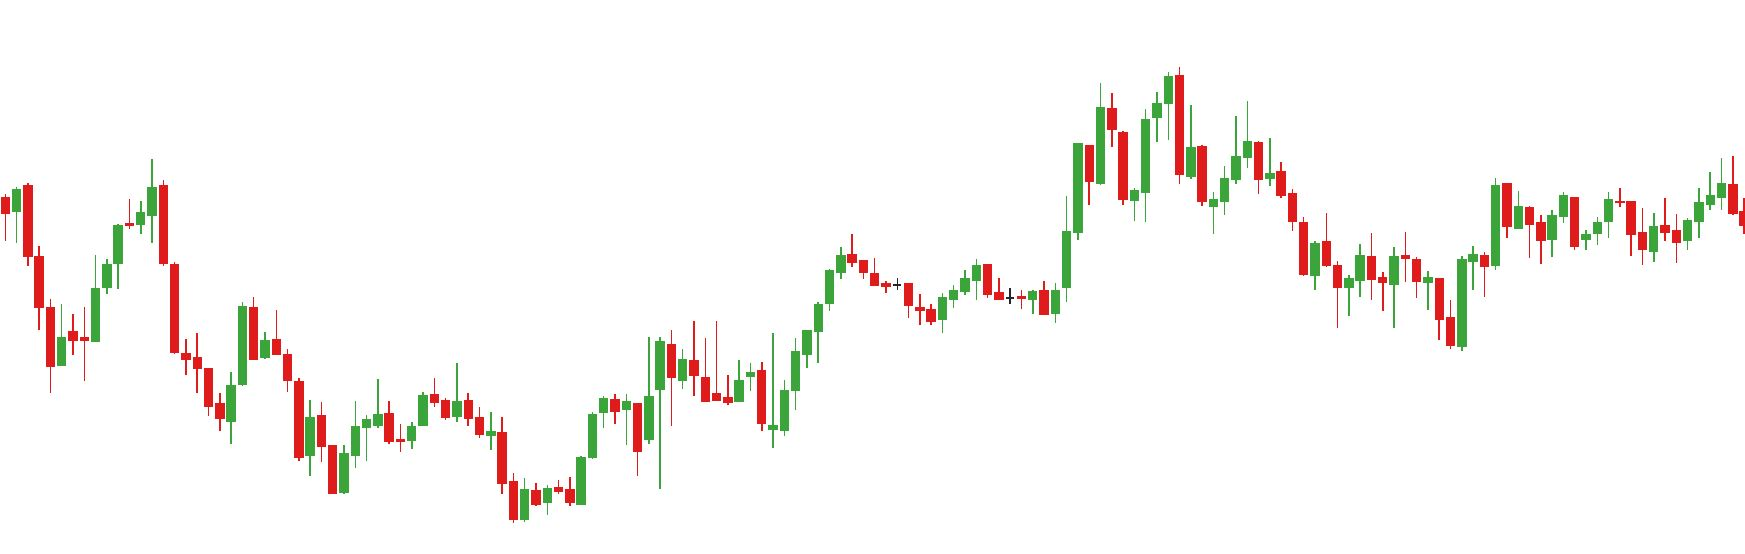buy: (326, 427, 532, 524)
sell: (1095, 67, 1186, 151)
